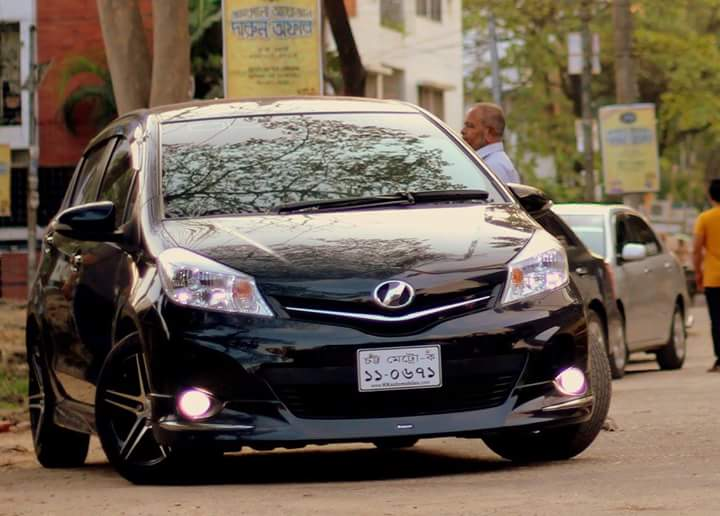registration_plate: (355, 344, 443, 392)
